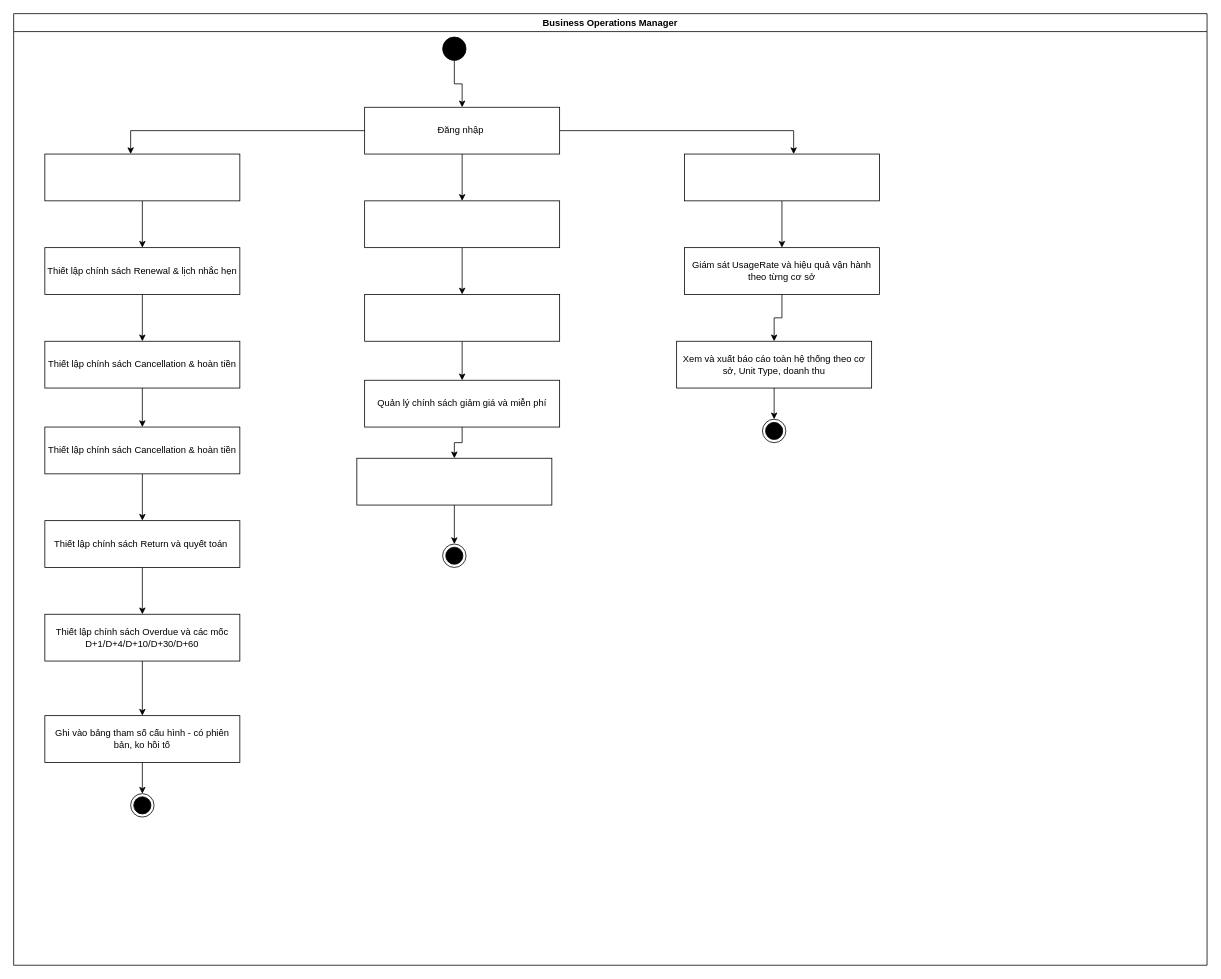
Some shapes in this 1221 by 979 pixel diagram are drawn without their labels. The shapes that lost their labels are listed below. From the top down, each one's centre as x and y in pixels, then its label:
At point (142, 177): "Thiết lập chính sách Deposit".
At point (781, 177): "Giám sát doanh thu theo từng cơ sở và toàn hệ thống".
At point (462, 224): "Quản lý khung giá thuê theo Unit Type và Facility".
At point (462, 317): "Quản lý phụ phí và phí quá hạn".
At point (454, 481): "Đơn giá lưu Snapshot theo Unit Type x Facility".
